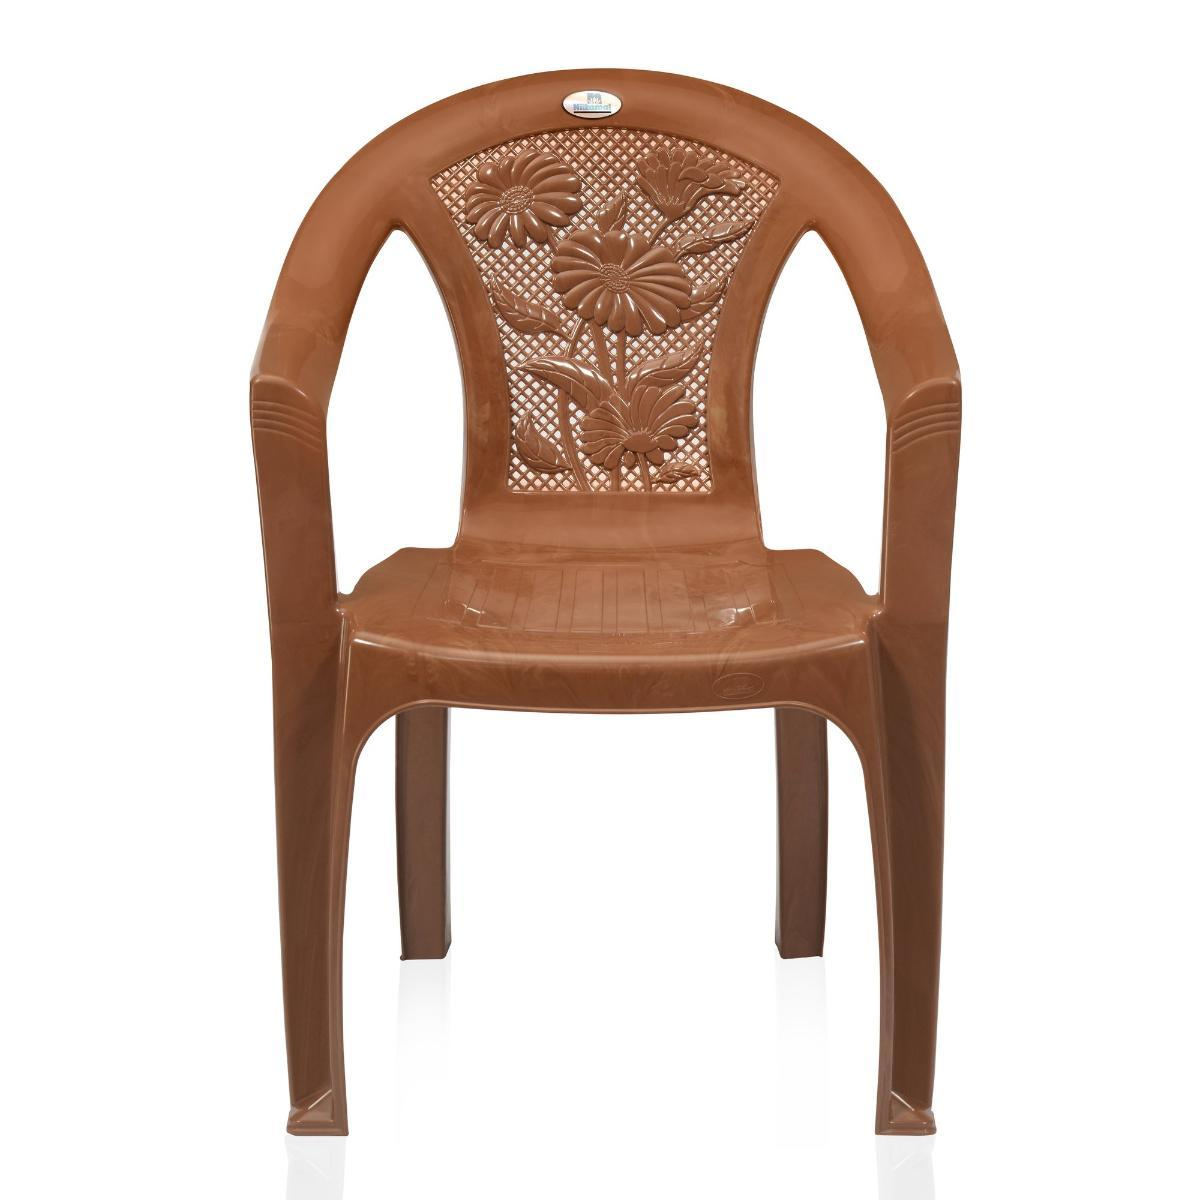Chair: (240, 65, 956, 1143)
